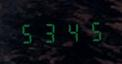five: (18, 21, 38, 44), (81, 19, 101, 42)
four: (60, 20, 80, 43)
three: (39, 20, 59, 44)
